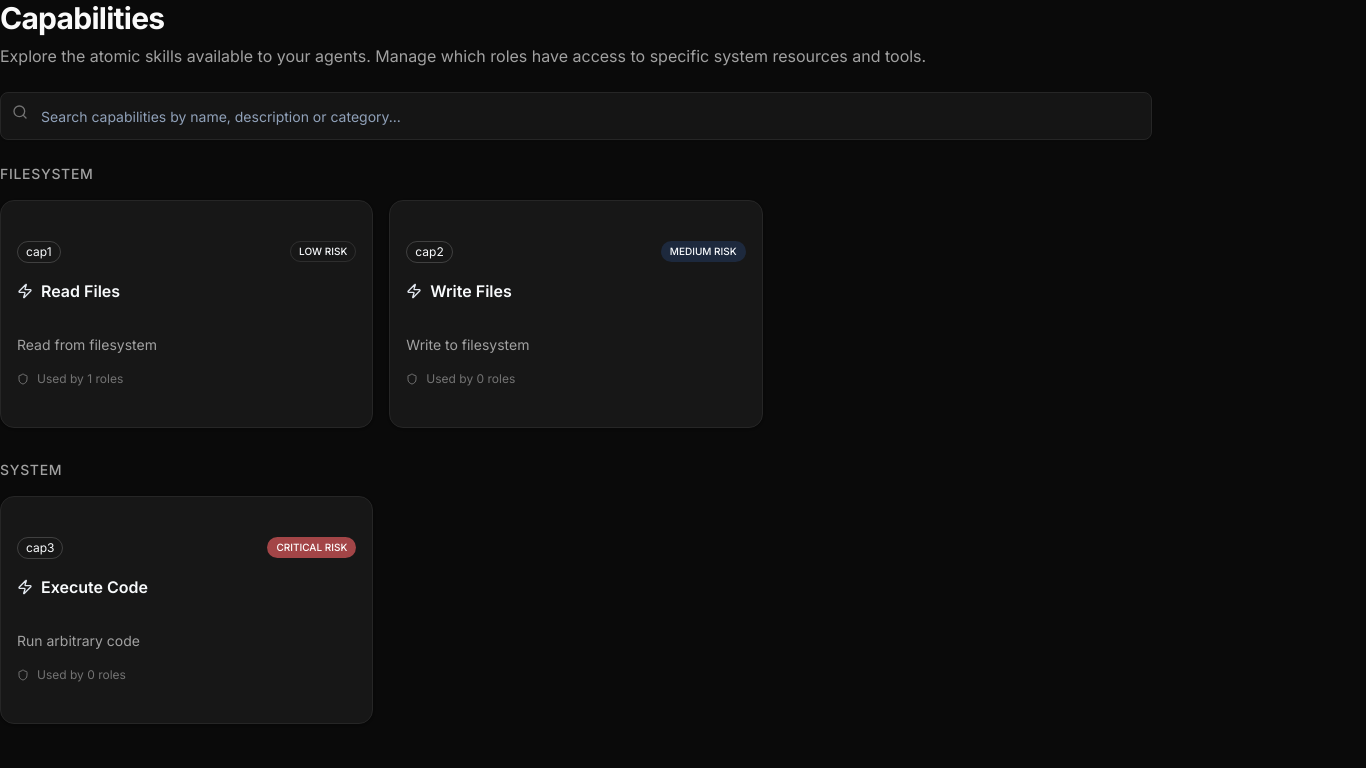
CapabilitiesPage › Interactions › should show role access in sheet
# Click on "Read Files" (cap1) - Architect has it, Developer doesn't
Click the text "Read Files": click(69, 291) [17,281,120,301]
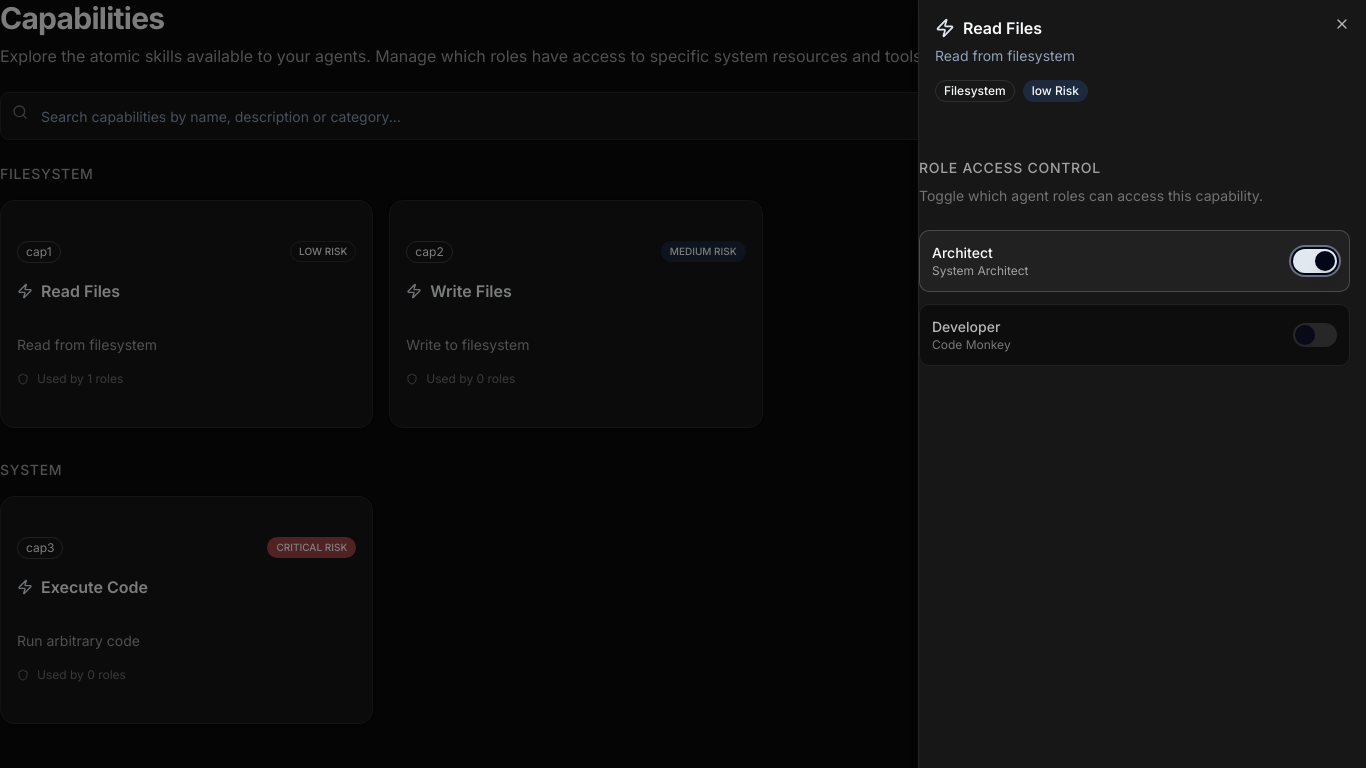
Check: the text "Architect" is shown, box [932,244,993,261]
Check: the text "Developer" is shown, box [932,317,1011,337]
Check: the switch in the row of "System Architect" is checked, box [1293,249,1337,273]
